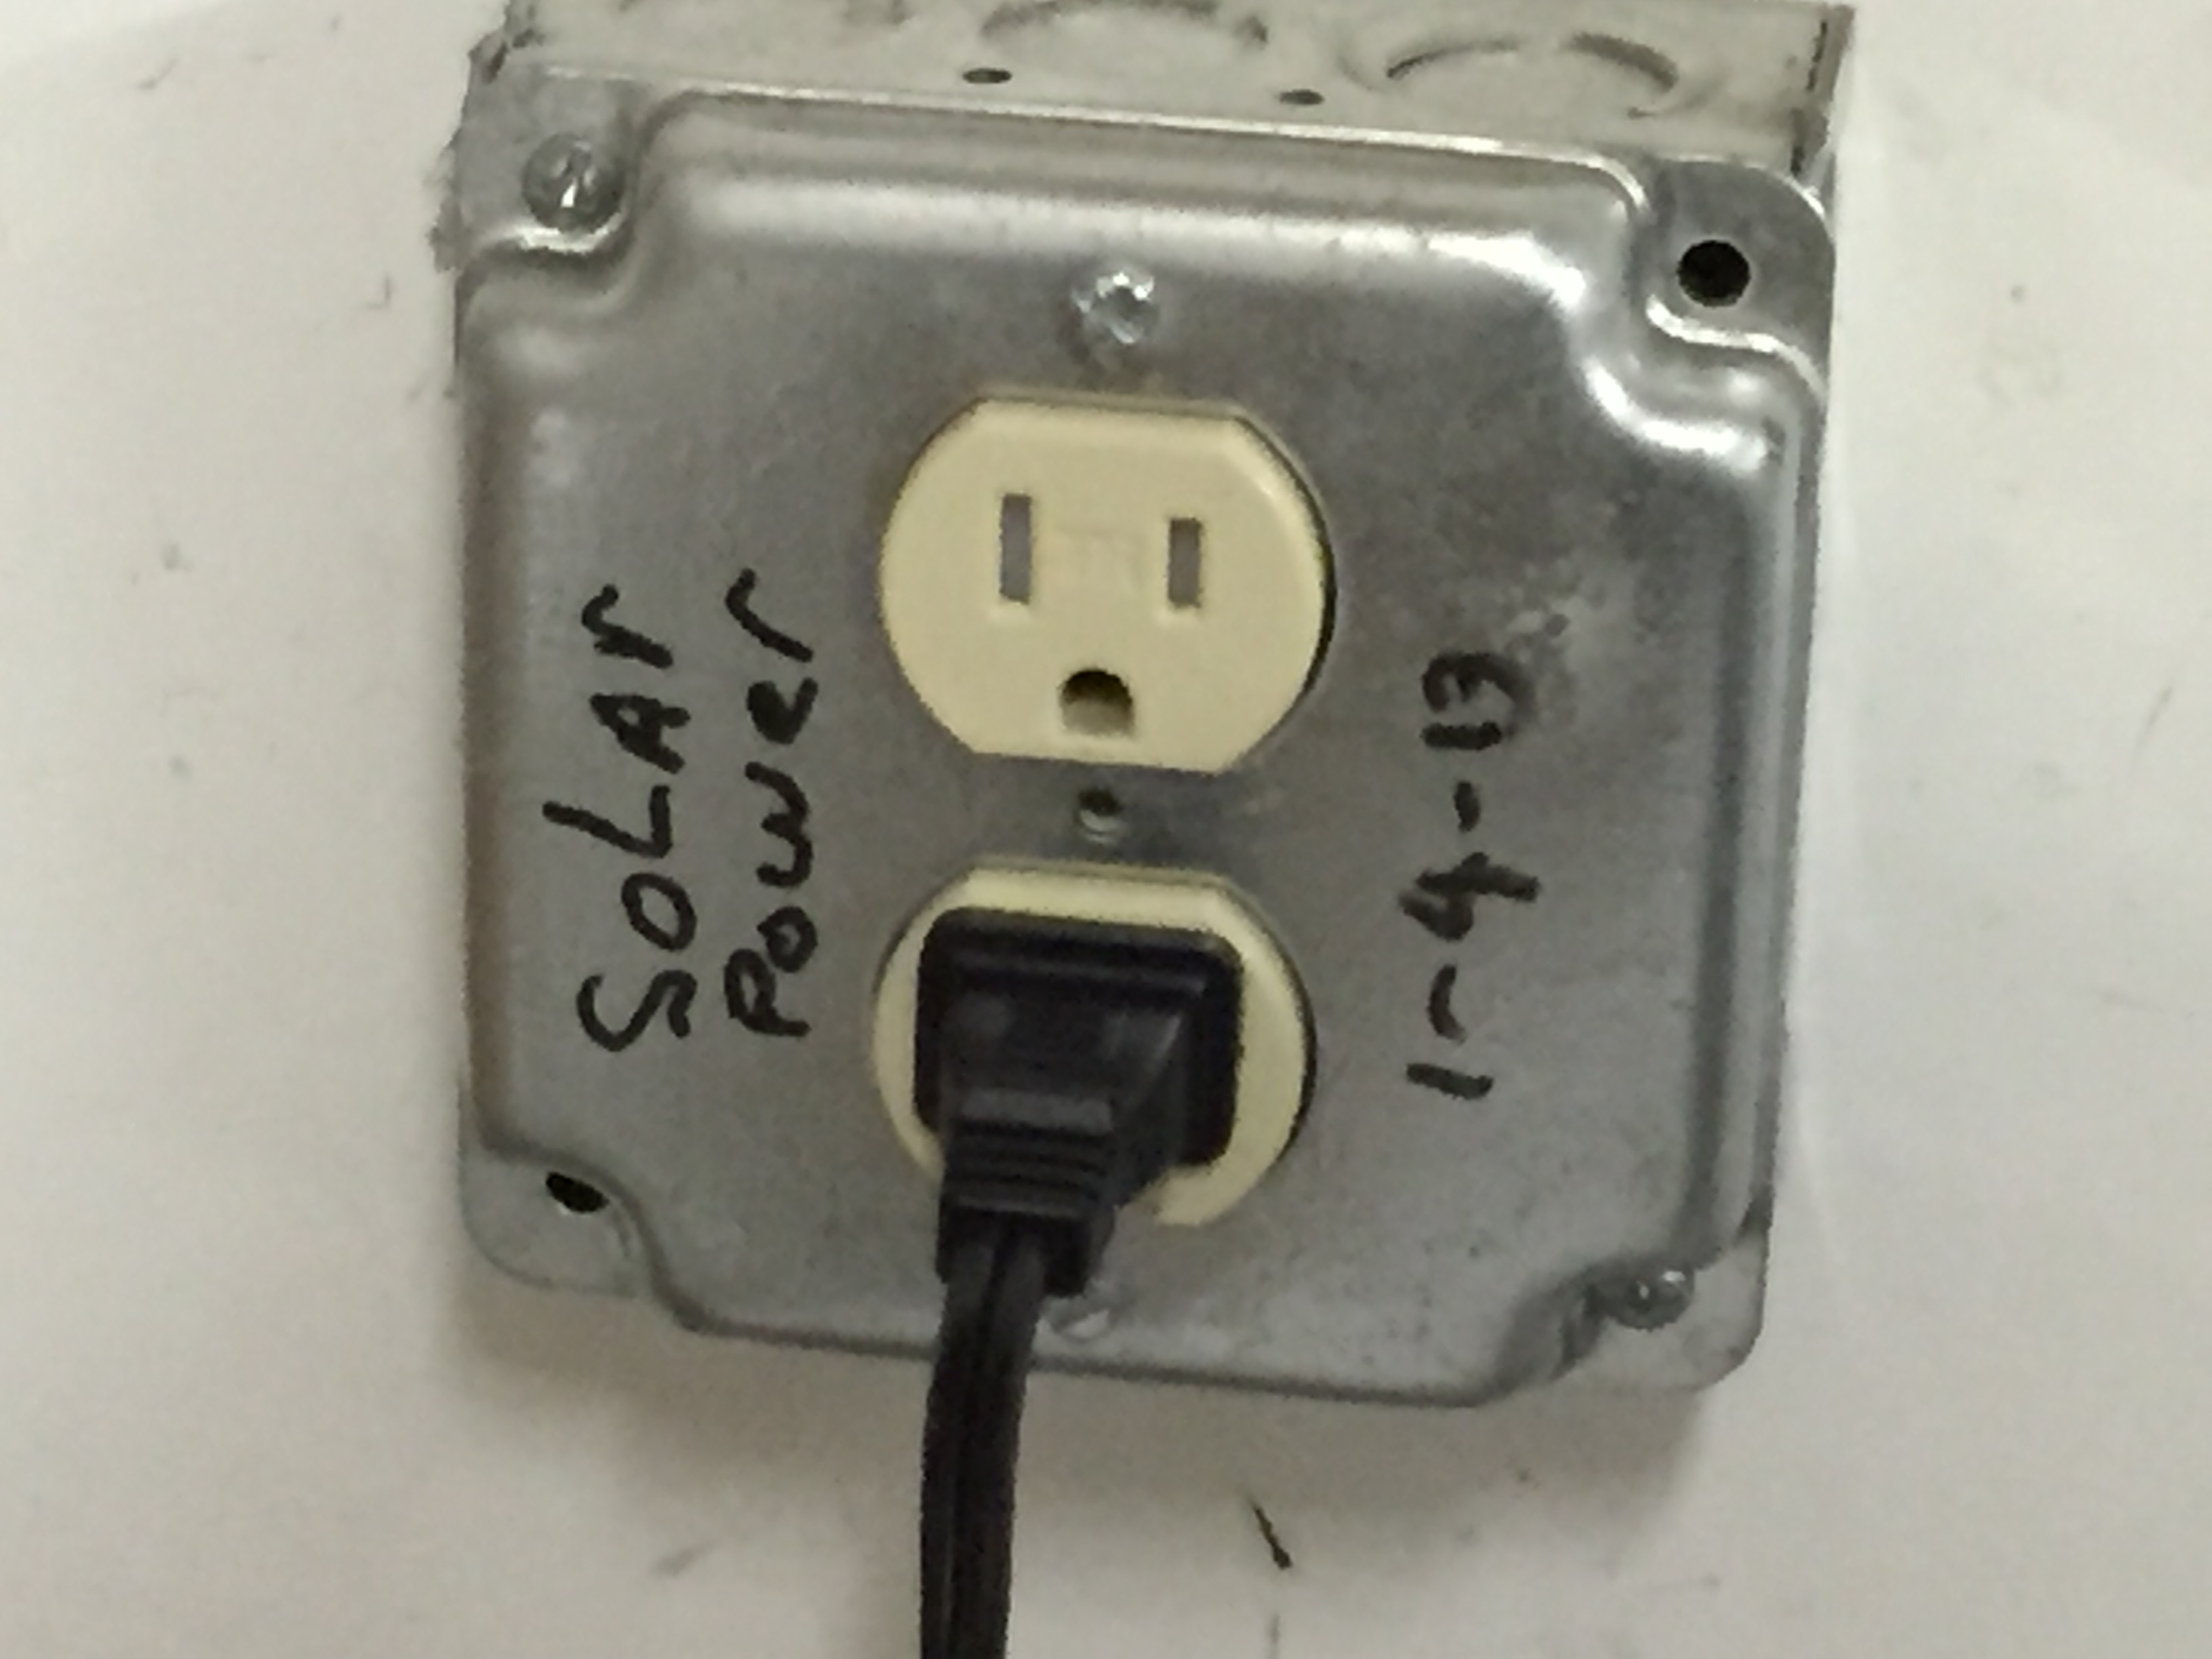outlet: (974, 467, 1228, 751)
